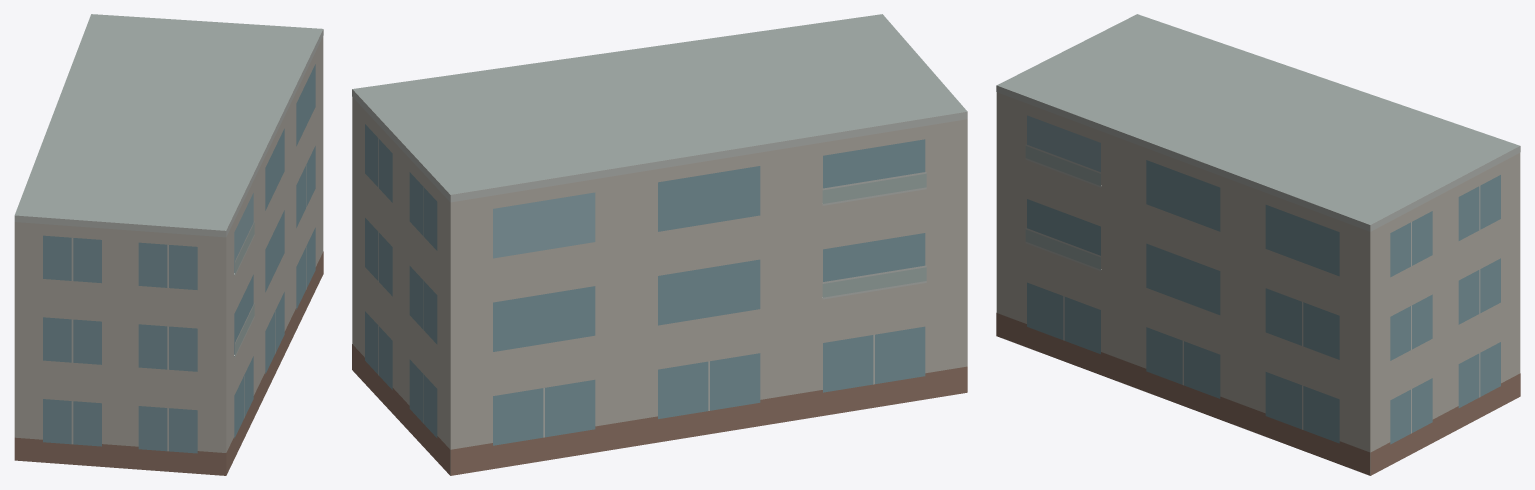
File: survey-upis-33042308.glb
The picture shows the model from 3 angles, left to right: view 1: azimuth 30°, elevation 25°; view 2: azimuth 150°, elevation 25°; view 3: azimuth 270°, elevation 25°; orthographic projection. The views are drawn at different scales.
Parts seen in each view (by area): view 1: survey-upis-33042308.tmp; view 2: survey-upis-33042308.tmp; view 3: survey-upis-33042308.tmp.
Boxes of the visible parts, x1,y1,x2,y2 form: survey-upis-33042308.tmp: (14,14,323,475); survey-upis-33042308.tmp: (352,14,967,475); survey-upis-33042308.tmp: (996,14,1520,475).
Size of the model in its own units: 16.54 by 9.15 by 17.33.
